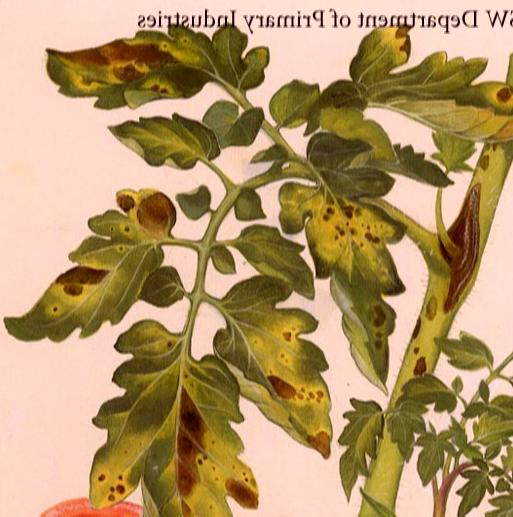Tomato Early blight leaf: (0, 176, 194, 349), (73, 328, 232, 517), (305, 151, 404, 383), (354, 18, 513, 157), (219, 279, 334, 452), (43, 20, 256, 104)
